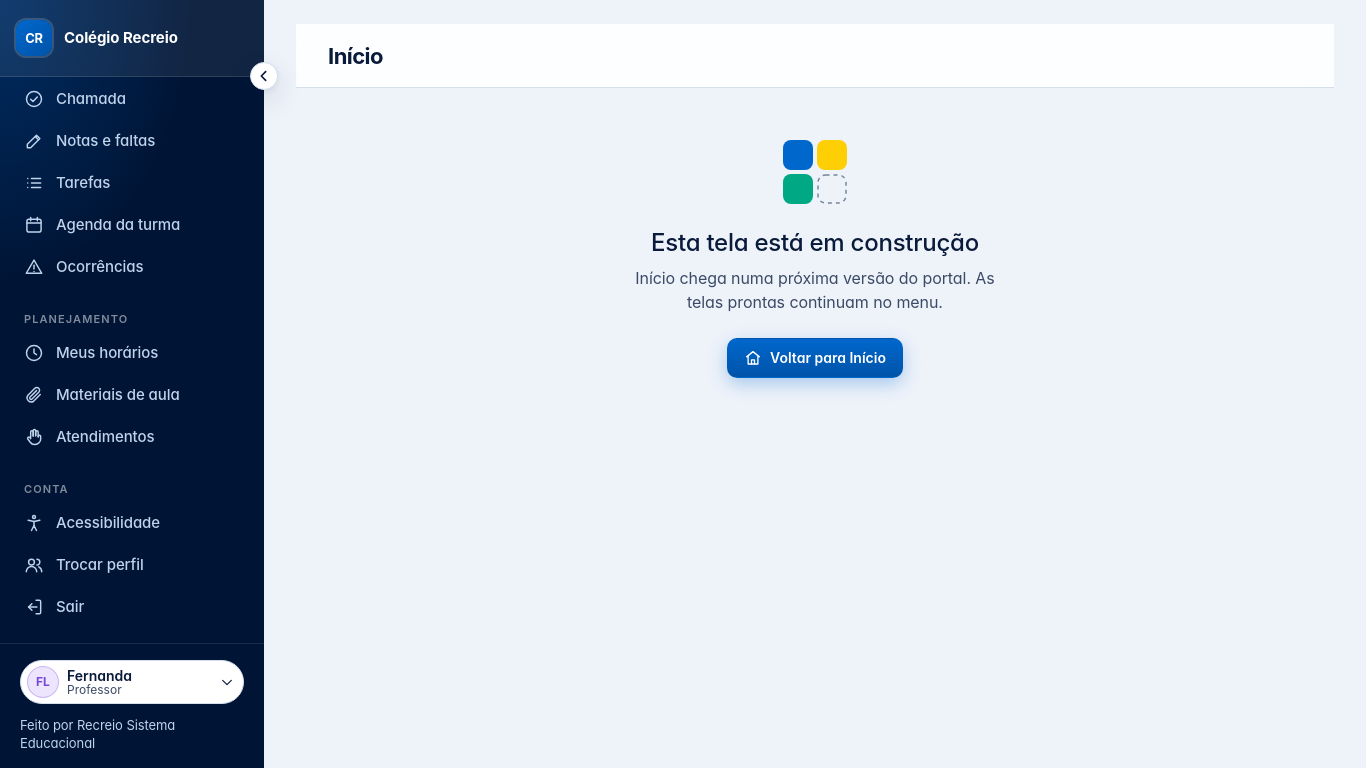
Scenario: sair › "Sair" no menu lateral faz o mesmo
The width and height of the screenshot is (1366, 768).
(page scrolled)
Click the link "Sair" at (54, 607), box left=24, top=597, right=84, bottom=617
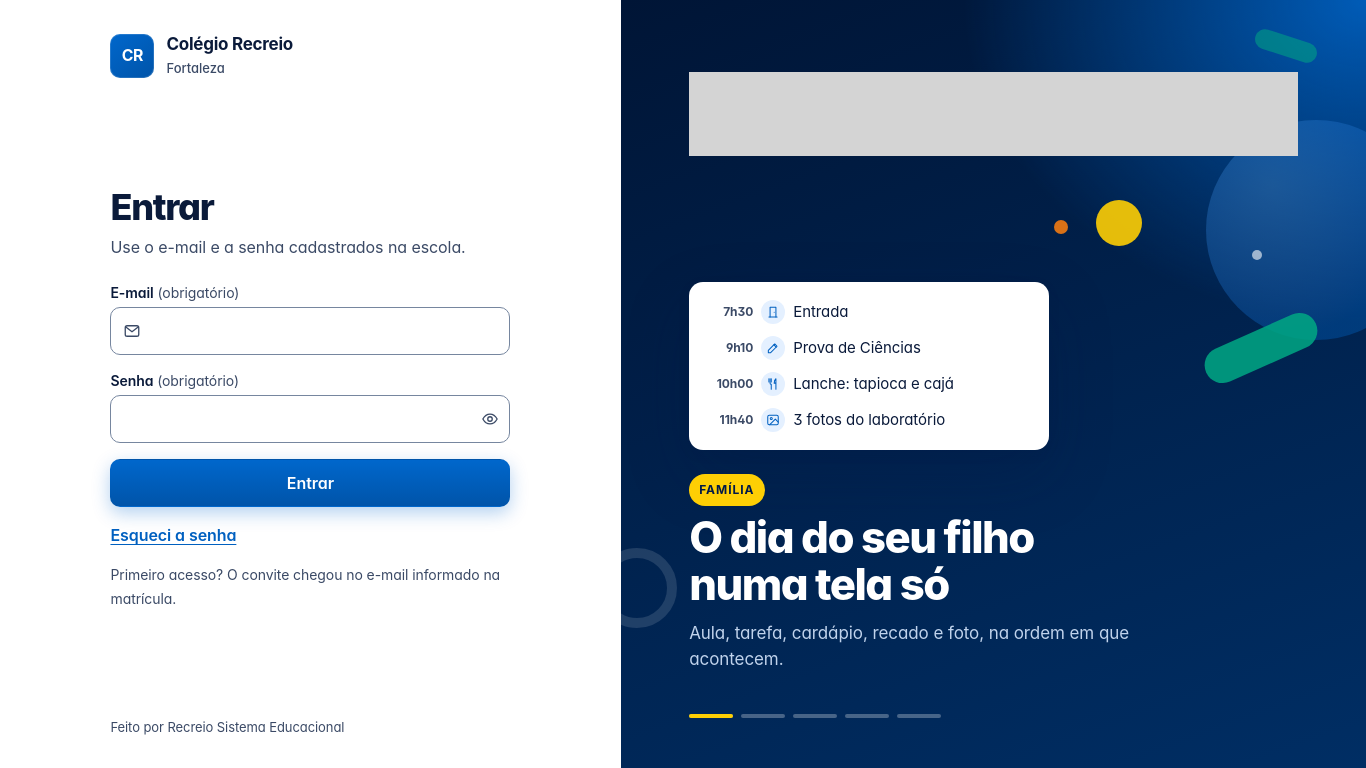
Now the heading "Entrar" is shown, box left=110, top=185, right=214, bottom=229
